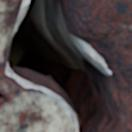broken_brick: (0, 0, 73, 131), (83, 0, 131, 96), (126, 108, 131, 131)
crack: (2, 0, 131, 131), (0, 92, 8, 101)
